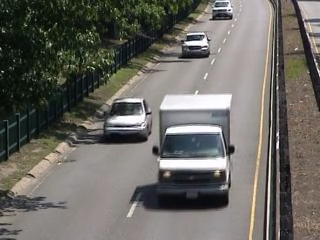car: (104, 95, 154, 148), (180, 31, 212, 61), (211, 1, 234, 22)
truck: (152, 92, 238, 211)
